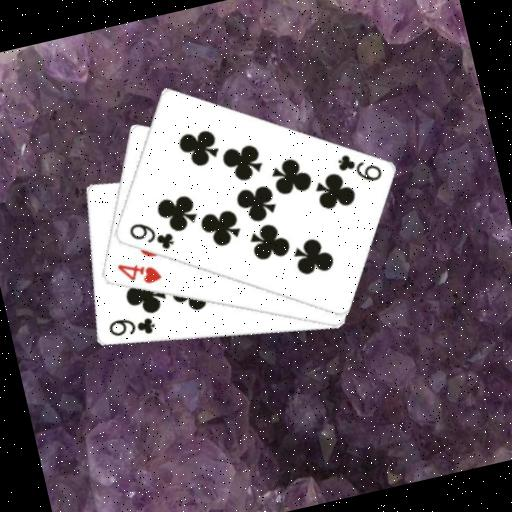4H: (112, 253, 164, 293)
9C: (124, 213, 177, 259), (332, 144, 385, 190), (104, 309, 159, 345)
